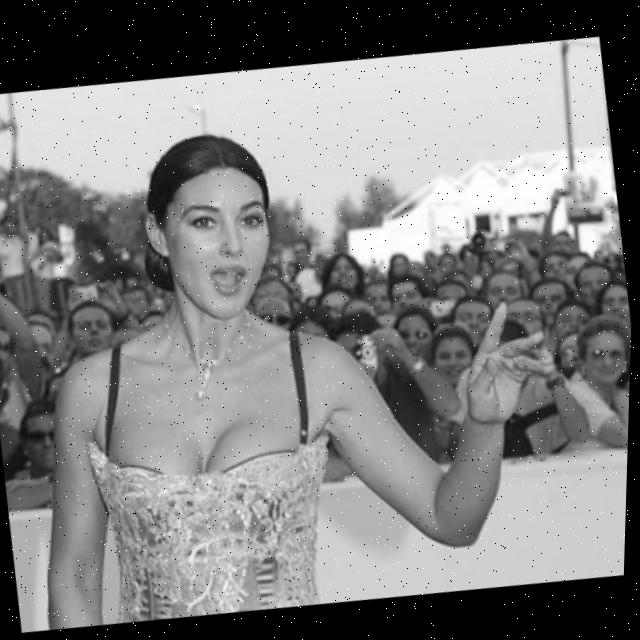face: (143, 136, 280, 315), (16, 394, 82, 475), (583, 323, 630, 392), (430, 320, 478, 386), (68, 297, 120, 357), (392, 305, 441, 362), (324, 250, 368, 301)
